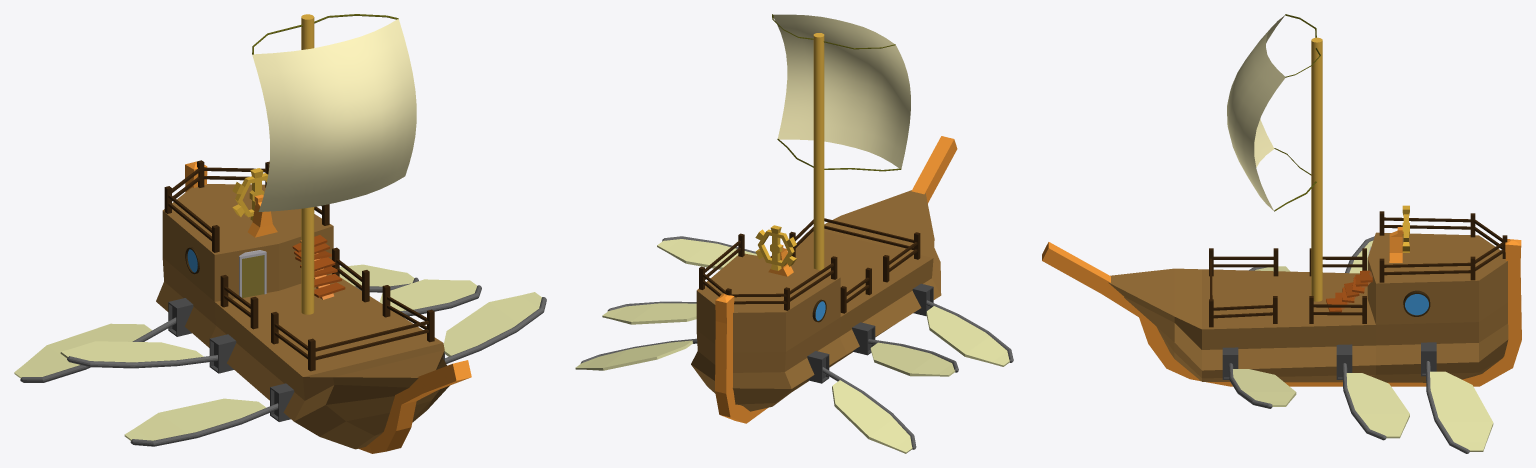
Rendered from Flying boat.fbx.
3 renders of one model, left to right at view 1: azimuth 30°, elevation 25°; view 2: azimuth 150°, elevation 25°; view 3: azimuth 270°, elevation 25°, orthographic. The views are drawn at different scales.
Visible parts, largest first — view 1: boat base, Sail, Fence, Wing.003, Wing.004, Wing.002, Wing.001, Wing.005, Wing output, Cylinder, Stairs, Door (+3 smaller); view 2: boat base, Sail, Fence, Wing.001, Cylinder, Wing.003, Wing.002, Wing.005, Wing, Wing.004, Wing output, Wheel (+1 smaller); view 3: boat base, Fence, Sail, Wing, Wing.005, Cylinder, Wing.004, Wing output, Stairs, Window.
Boxes of the visible parts, bbox=[...] form: boat base: bbox=[156, 161, 471, 453]; Sail: bbox=[252, 19, 416, 211]; Fence: bbox=[164, 160, 434, 371]; Wing.003: bbox=[124, 398, 278, 446]; Wing.004: bbox=[443, 292, 546, 363]; Wing.002: bbox=[60, 341, 217, 368]; Wing.001: bbox=[14, 317, 176, 382]; Wing.005: bbox=[380, 279, 481, 316]; Wing output: bbox=[168, 298, 444, 421]; Cylinder: bbox=[301, 14, 314, 314]; Stairs: bbox=[292, 235, 345, 299]; Door: bbox=[239, 250, 266, 297]; boat base: bbox=[691, 136, 957, 423]; Sail: bbox=[773, 14, 910, 168]; Fence: bbox=[699, 218, 920, 313]; Wing.001: bbox=[822, 367, 916, 453]; Cylinder: bbox=[813, 33, 824, 270]; Wing.003: bbox=[926, 300, 1013, 366]; Wing.002: bbox=[868, 339, 958, 376]; Wing.005: bbox=[602, 301, 696, 324]; Wing: bbox=[575, 338, 697, 370]; Wing.004: bbox=[657, 236, 756, 269]; Wing output: bbox=[807, 283, 933, 383]; Wheel: bbox=[755, 225, 796, 270]; boat base: bbox=[1042, 232, 1521, 386]; Fence: bbox=[1209, 211, 1507, 327]; Sail: bbox=[1227, 15, 1285, 210]; Wing: bbox=[1425, 361, 1493, 453]; Wing.005: bbox=[1342, 363, 1409, 440]; Cylinder: bbox=[1311, 37, 1322, 301]; Wing.004: bbox=[1228, 363, 1296, 408]; Wing output: bbox=[1222, 342, 1436, 379]; Stairs: bbox=[1326, 270, 1372, 312]; Window: bbox=[1403, 290, 1430, 316].
Size of the model in its own units: 2032 by 1827 by 2312.
